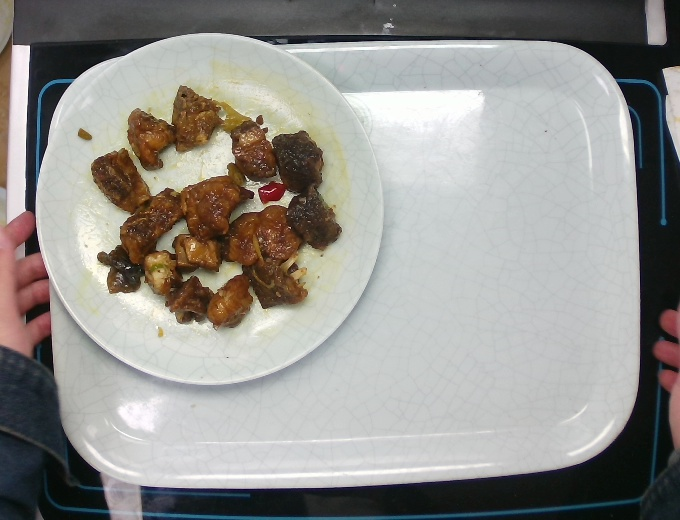JYsf-Da_Yuan_Pan: (28, 31, 386, 387)
